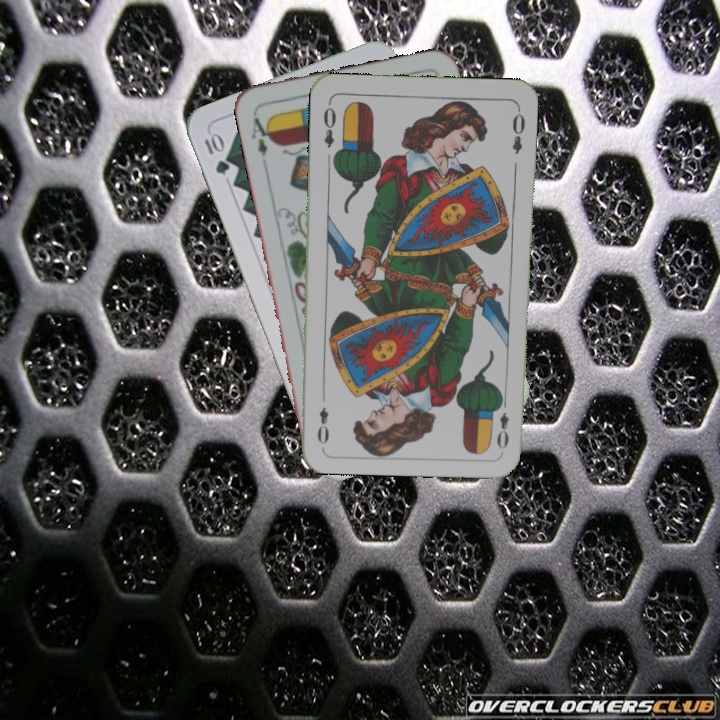EA: (247, 114, 276, 159)
EO: (493, 394, 512, 452), (319, 98, 339, 150)
G10: (200, 129, 232, 177)
